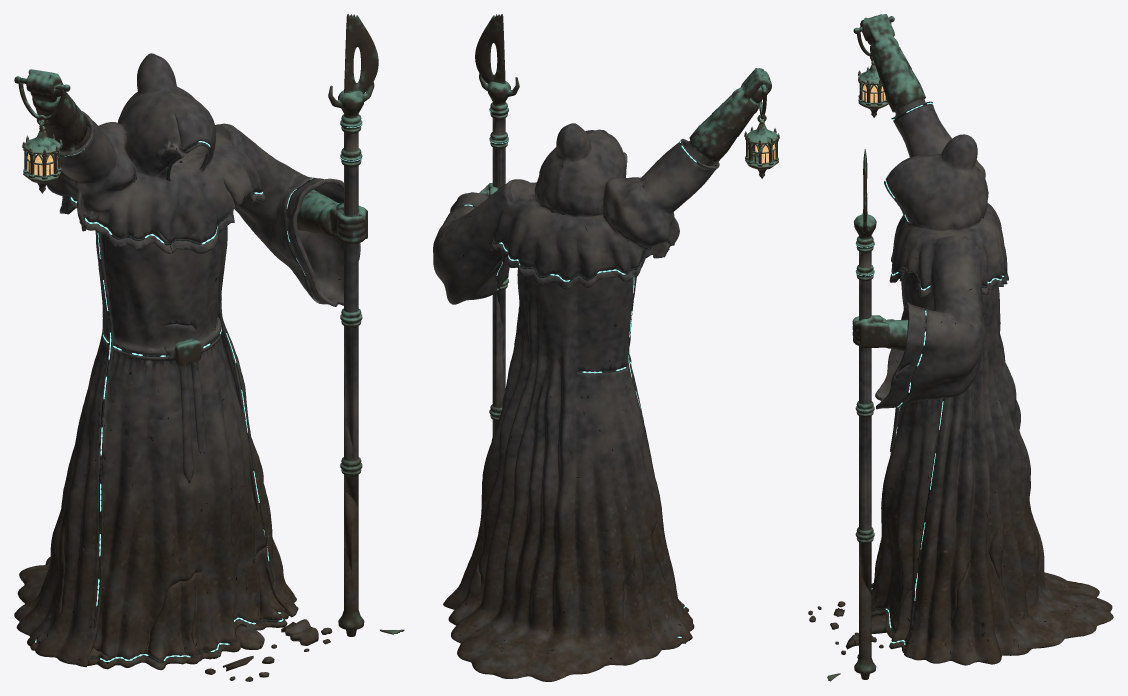
Rendered from keeper.glb.
3 renders of one model, left to right at view 1: azimuth 30°, elevation 25°; view 2: azimuth 150°, elevation 25°; view 3: azimuth 270°, elevation 25°, orthographic. The views are drawn at different scales.
Visible parts, largest first — view 1: Keeper_LOD0, Keeper_inlay_dead, glow_bands_dim; view 2: Keeper_LOD0; view 3: Keeper_LOD0.
Part boxes in pixels (left/top/right/bottom): Keeper_LOD0: left=14, top=14, right=404, bottom=681; Keeper_inlay_dead: left=61, top=123, right=346, bottom=662; glow_bands_dim: left=68, top=127, right=357, bottom=661; Keeper_LOD0: left=433, top=14, right=779, bottom=681; Keeper_LOD0: left=808, top=14, right=1113, bottom=681.
Size of what is drawn, in the model's own units: 772 by 1320 by 680.
Materials: 8 (2 with a texture image).
